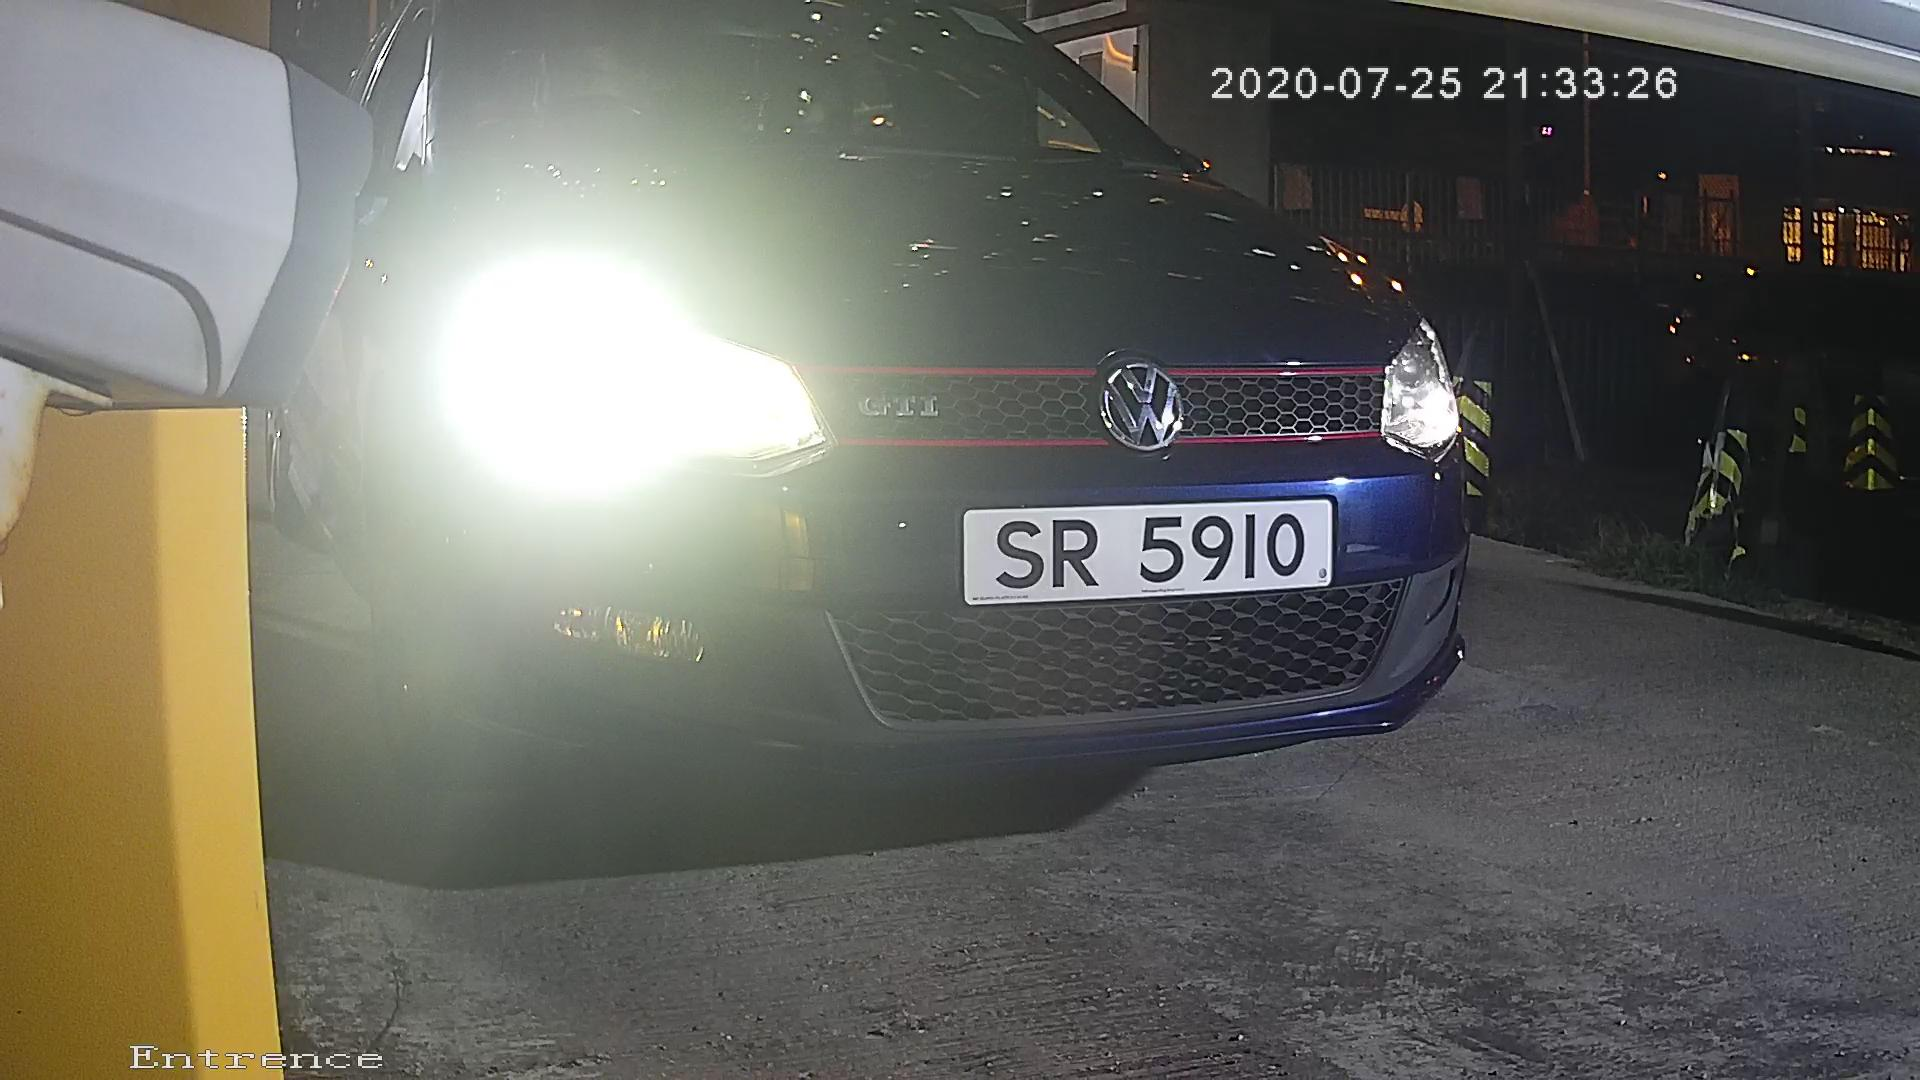Car: (78, 1, 1603, 825)
License Plate: (918, 487, 1355, 613)
